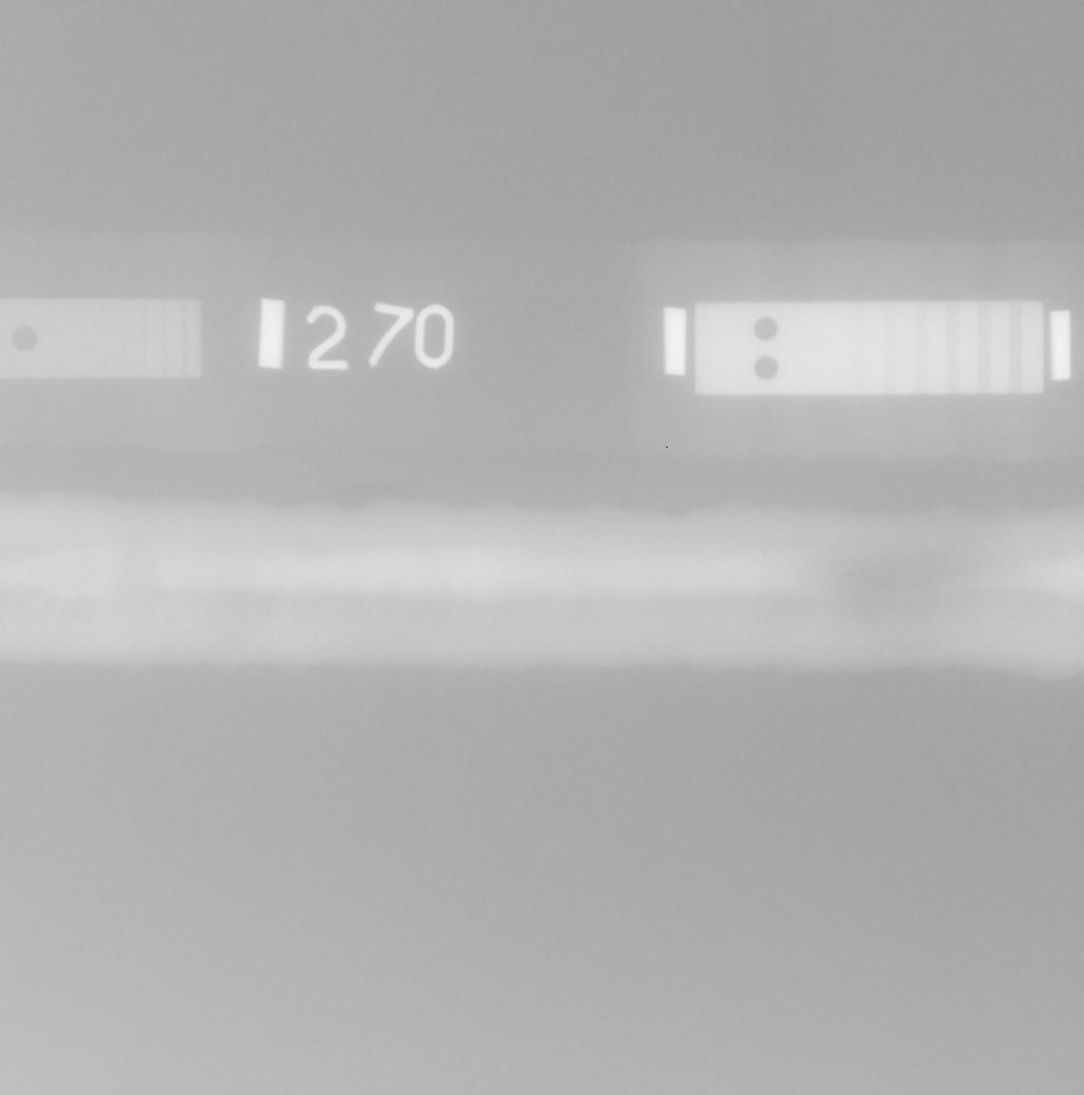Inclusion: (844, 573, 860, 577), (86, 569, 96, 574), (876, 584, 886, 588), (866, 576, 869, 579)
Reference Standard 2: (694, 302, 1044, 396)
Shrinkage Depression: (842, 550, 944, 618)
